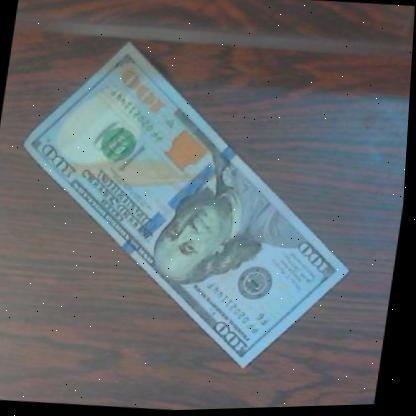one_hundred-front: (0, 26, 385, 381)
